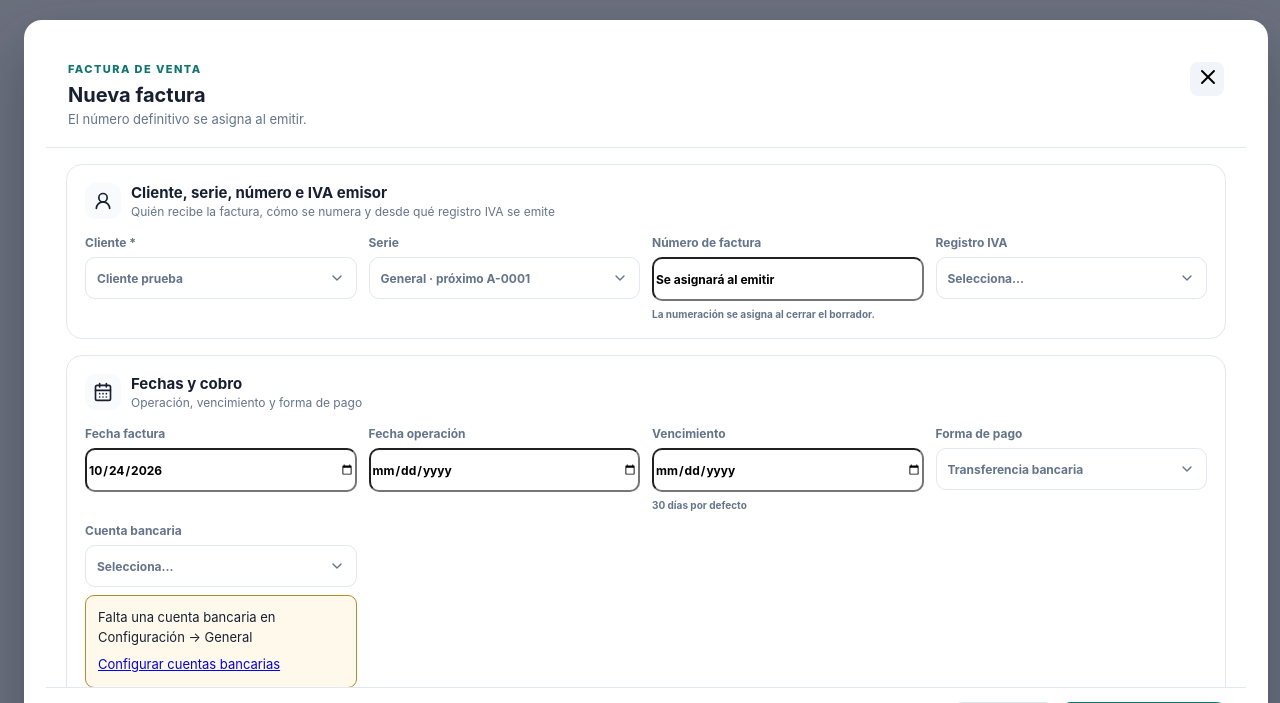
Test case: bank choices on real document forms › keeps the bank next to payment inside the invoice collection card and hides it for cash
Click the dropdown named "Forma de pago".
click(1071, 469)  # box [936,448,1207,490]
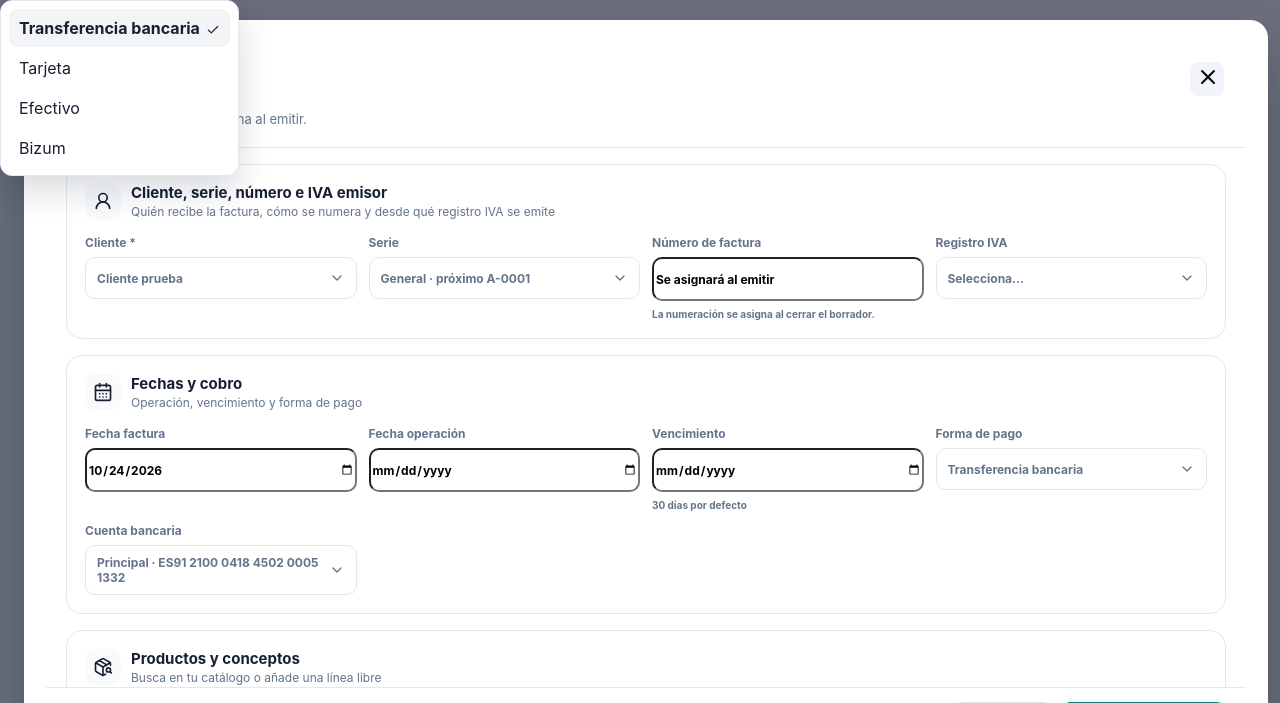
Click the option "Efectivo".
click(119, 108)  # box [9,89,230,127]
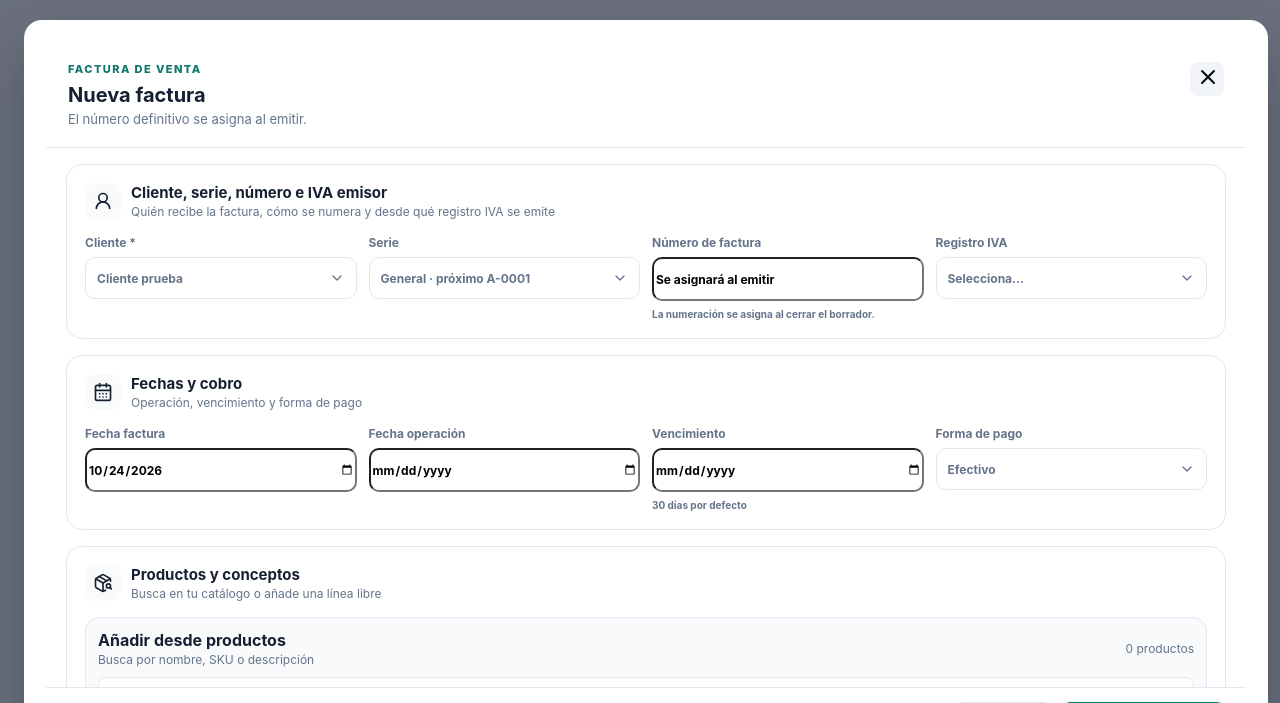
Now the text "Cuenta bancaria" is gone
Click the dropdown named "Forma de pago".
click(972, 469)  # box [936,448,1207,490]
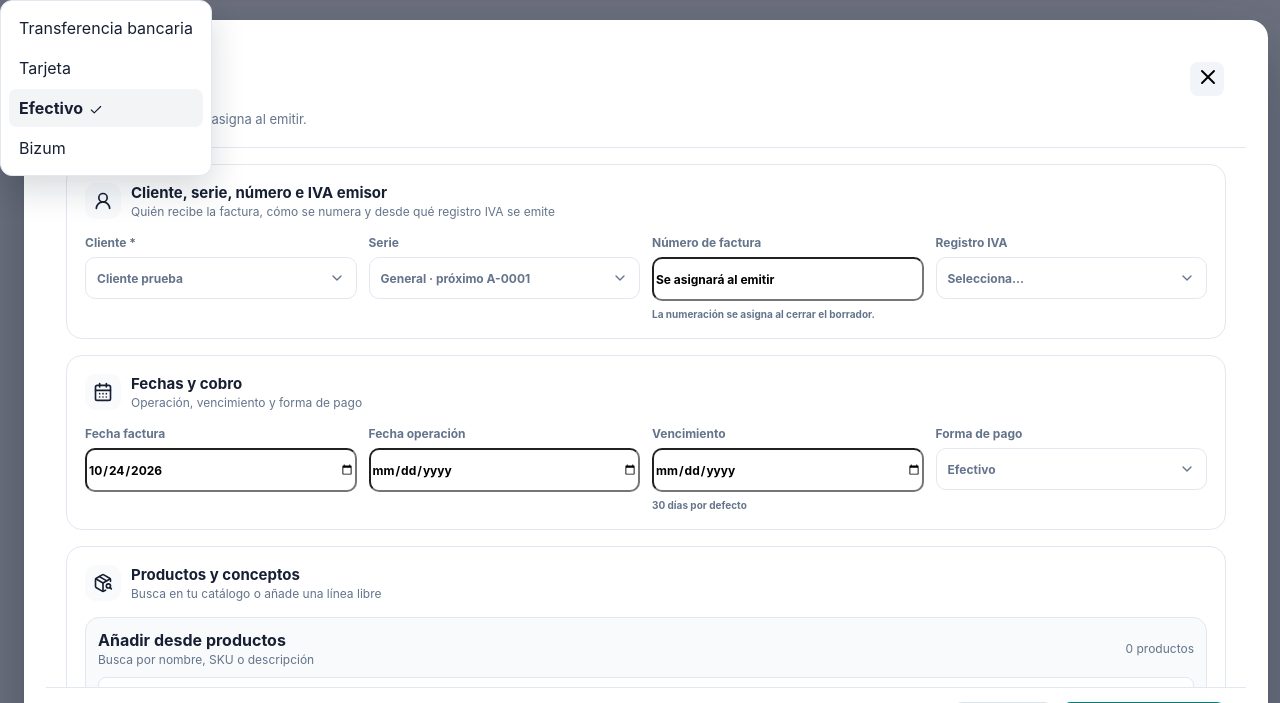
Click the option "Transferencia bancaria".
click(106, 28)  # box [9,9,203,47]
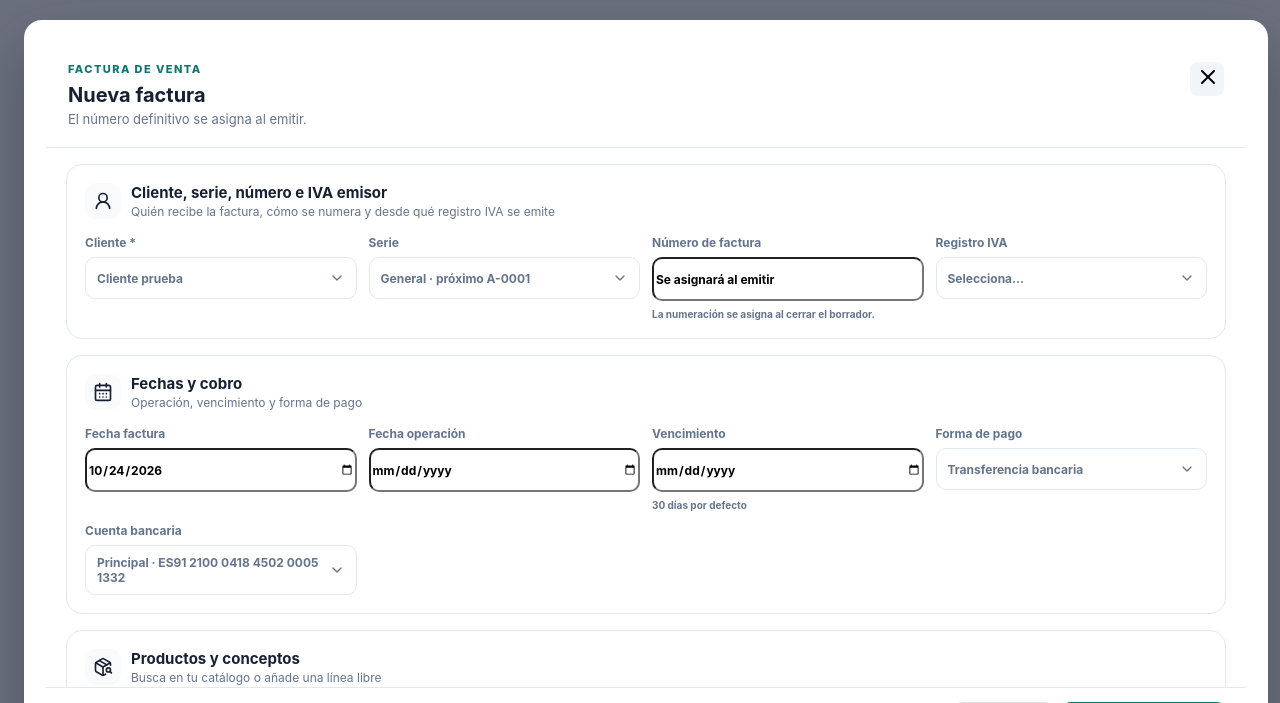
Now the dropdown named "Cuenta bancaria" is shown, box [85,545,356,595]
